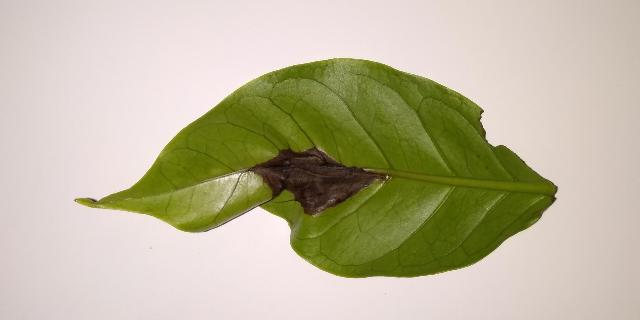rust: (237, 146, 391, 216)
